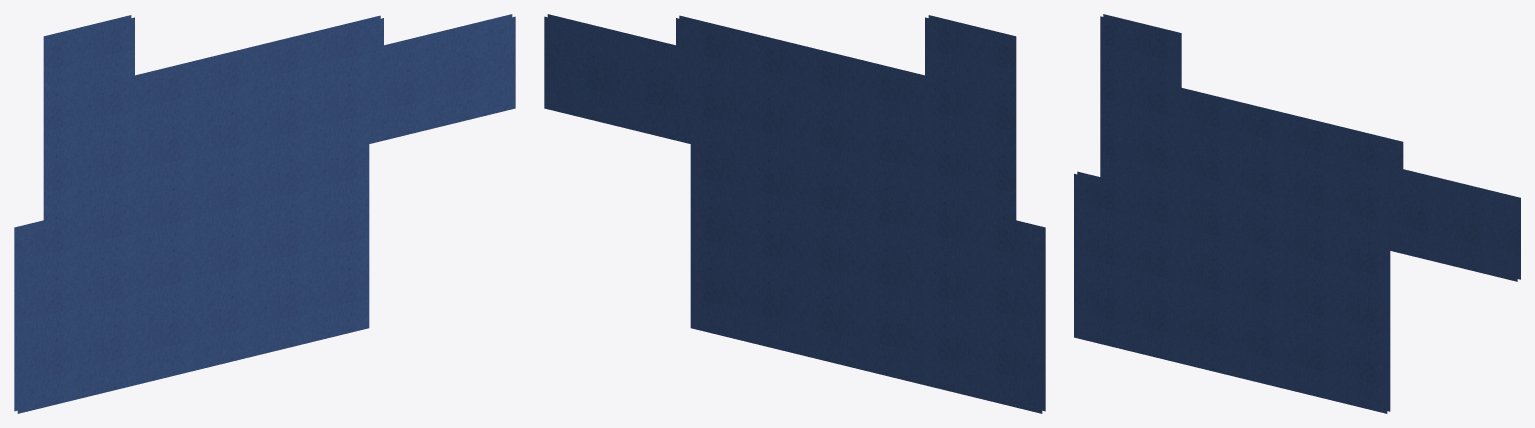
File: floor_75.obj
3 renders of one model, left to right at view 1: azimuth 30°, elevation 25°; view 2: azimuth 150°, elevation 25°; view 3: azimuth 330°, elevation 25°, orthographic. The views are drawn at different scales.
Visible parts, largest first — view 1: floor_75; view 2: floor_75; view 3: floor_75.
Part boxes in pixels (x1,y1,x2,y2): floor_75: (14,14,515,413); floor_75: (544,14,1045,413); floor_75: (1074,14,1520,413).
Bounding box in the file's own units: 8.5 × 6 × 0.1.
1 material, 1 textured.
